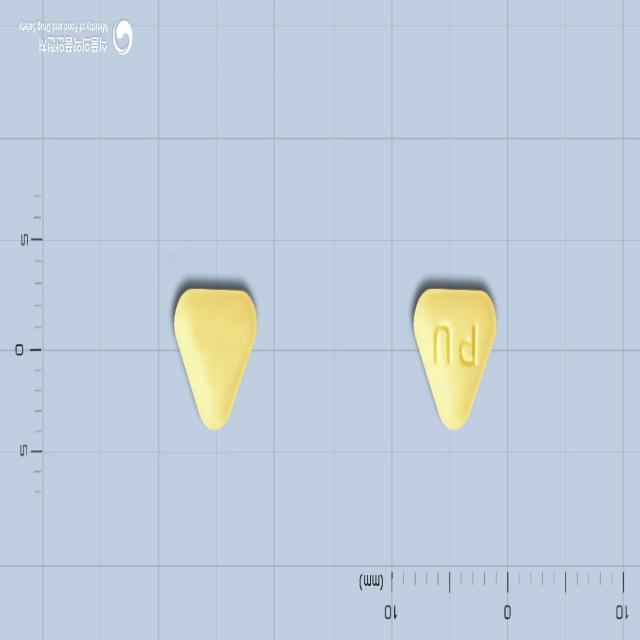Clarid - 250mg: (172, 288, 257, 432), (413, 288, 496, 432)
